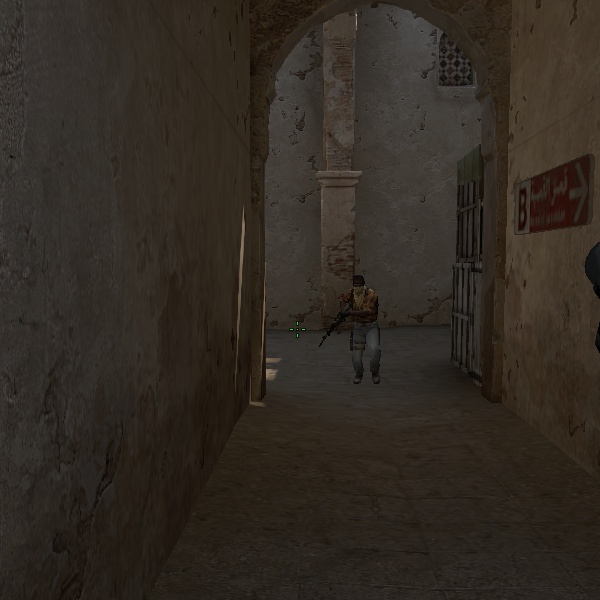t_body: (336, 273, 383, 388)
t_head: (352, 275, 366, 295)
